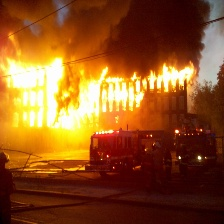fire: (1, 57, 197, 129)
smoke: (15, 1, 213, 63)
